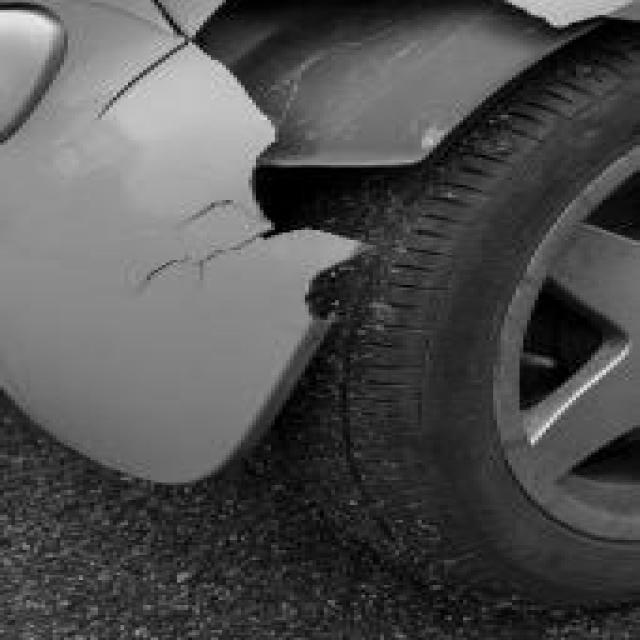Bumper: (0, 0, 609, 482)
